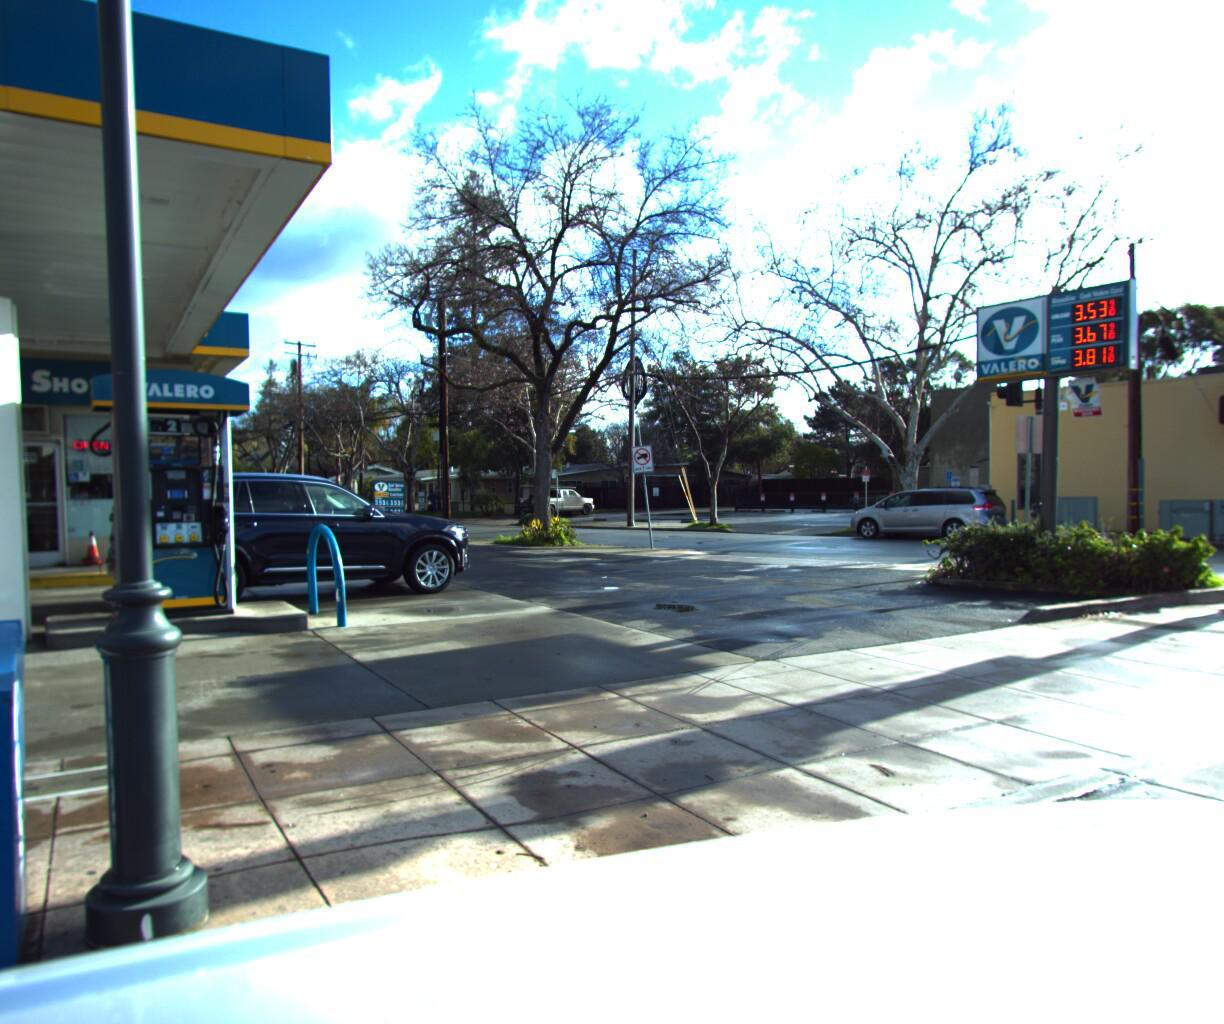car: (90, 463, 504, 626), (846, 479, 1020, 539), (512, 480, 599, 519)
